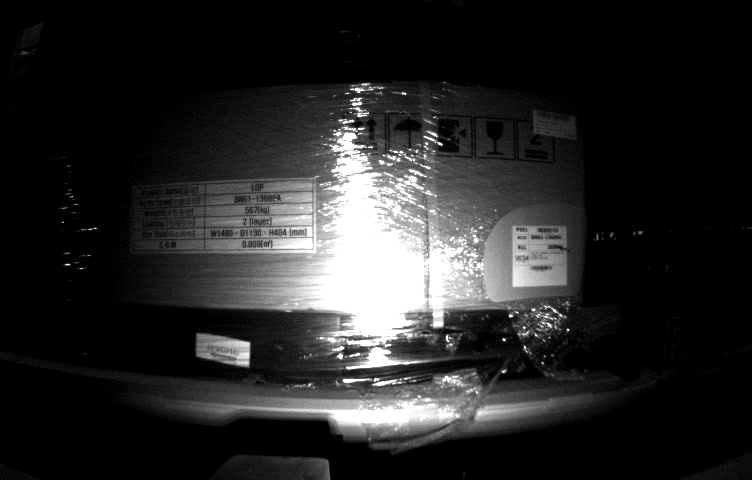True Barcode: (509, 221, 569, 286)
